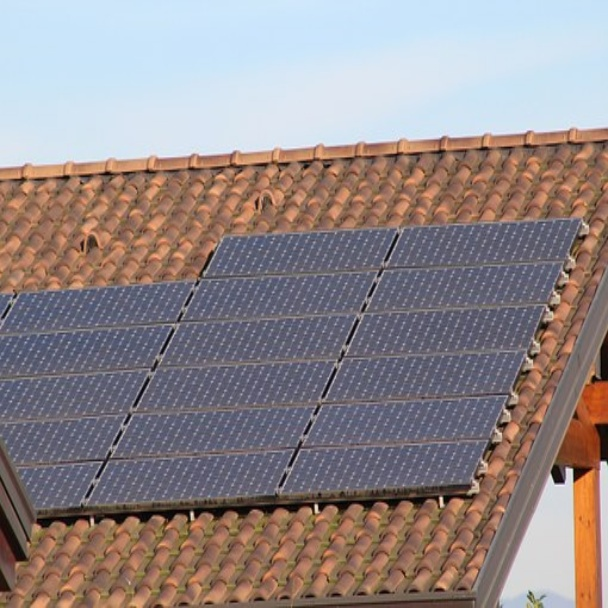solarpanels: (177, 221, 550, 499), (3, 291, 177, 511)
